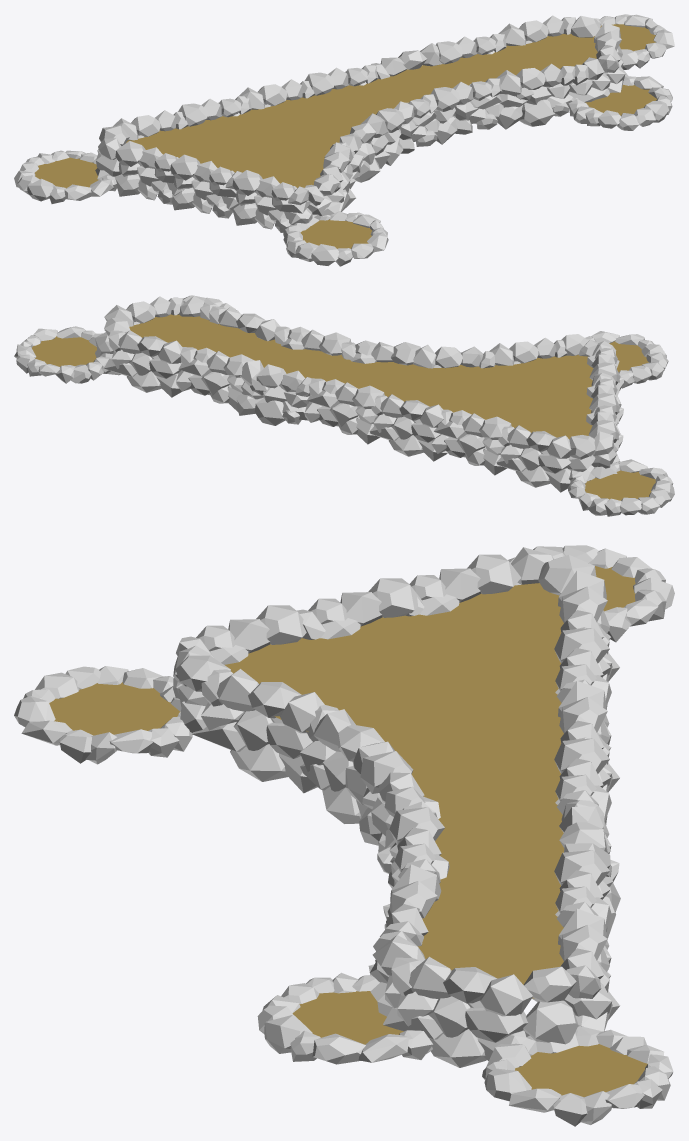
3 views of the same model, one above another, from view 1: azimuth 30°, elevation 25°; view 2: azimuth 150°, elevation 25°; view 3: azimuth 270°, elevation 25° (orthographic). The views are drawn at different scales.
Parts seen in each view (by area): view 1: SM_B_13; view 2: SM_B_13; view 3: SM_B_13.
Boxes of the visible parts, bbox=[...] form: SM_B_13: bbox=[14, 14, 674, 266]; SM_B_13: bbox=[14, 295, 674, 516]; SM_B_13: bbox=[14, 545, 674, 1126].
Size of the model in its own units: 1285 by 103 by 639.
